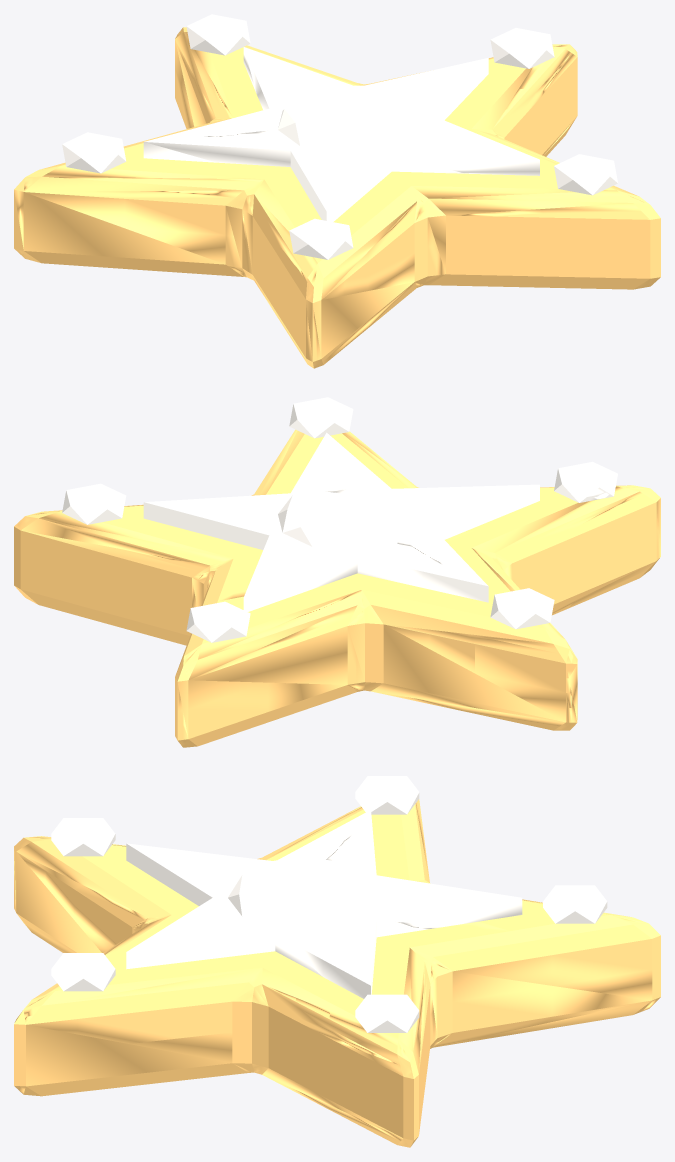
The model's file is xmas_gingerbread_star.glb.
3 renders of one model, top to bottom at view 1: azimuth 30°, elevation 25°; view 2: azimuth 150°, elevation 25°; view 3: azimuth 270°, elevation 25°, orthographic. The views are drawn at different scales.
Visible parts, largest first — view 1: GingerbreadStar; view 2: GingerbreadStar; view 3: GingerbreadStar.
Boxes of the visible parts, left/top/right/bottom form: GingerbreadStar: left=14, top=14, right=660, bottom=368; GingerbreadStar: left=14, top=397, right=660, bottom=747; GingerbreadStar: left=14, top=776, right=660, bottom=1147.
Bounding box in the file's own units: 1.8 × 0.43 × 1.71.
